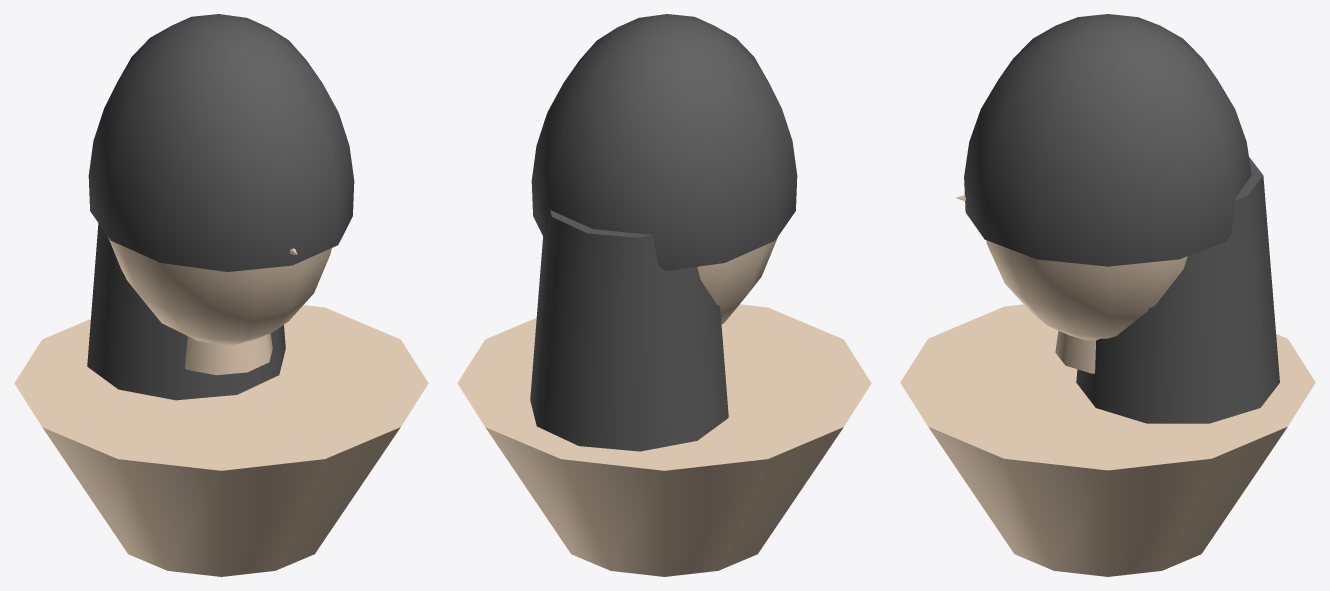
File: raw_001.glb
The picture shows the model from 3 angles, left to right: view 1: azimuth 30°, elevation 25°; view 2: azimuth 150°, elevation 25°; view 3: azimuth 270°, elevation 25°; orthographic projection.
Bounding box in the file's own units: 1.66 × 2.24 × 1.66.
